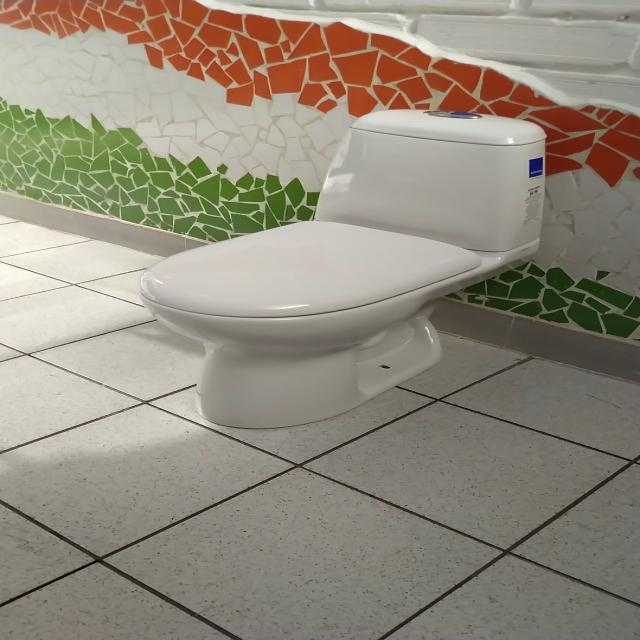toilet: (138, 108, 546, 429)
